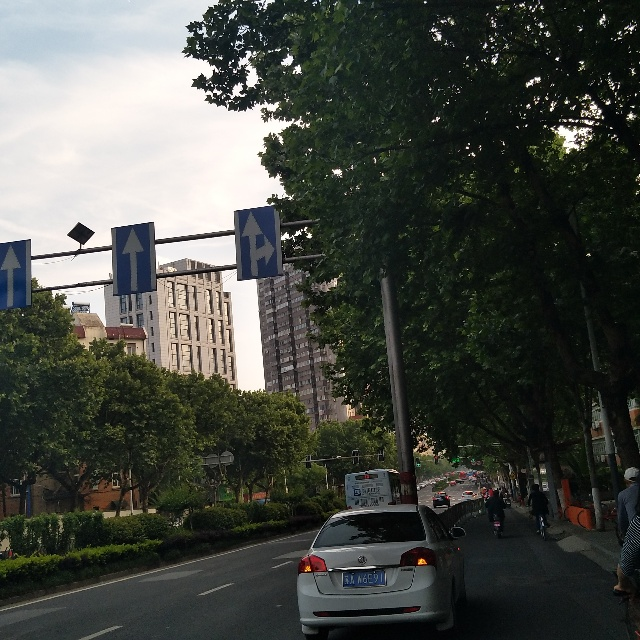straight: (114, 225, 155, 293), (1, 247, 33, 311)
